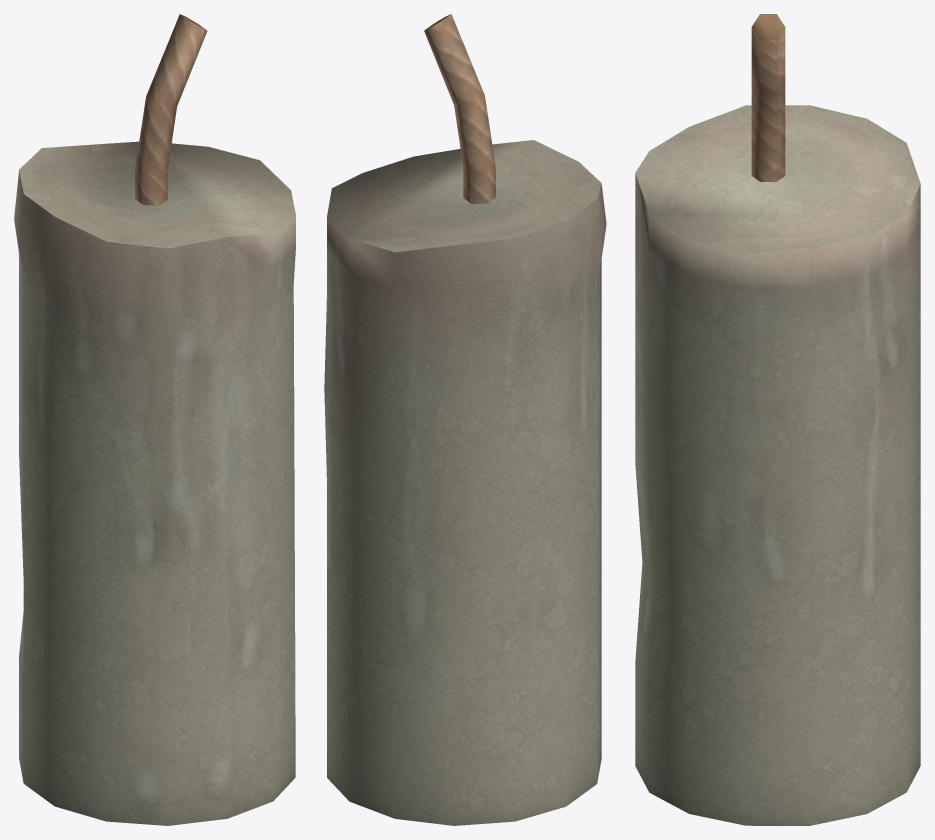
Rendered from Candle.fbx.
3 renders of one model, left to right at view 1: azimuth 30°, elevation 25°; view 2: azimuth 150°, elevation 25°; view 3: azimuth 270°, elevation 25°, orthographic. The views are drawn at different scales.
Parts seen in each view (by area): view 1: Cube; view 2: Cube; view 3: Cube.
Boxes of the visible parts, x1,y1,x2,y2 form: Cube: [14, 14, 295, 825]; Cube: [324, 14, 606, 825]; Cube: [635, 14, 920, 825].
Size of the model in its own units: 5.81 by 17.26 by 5.85.
